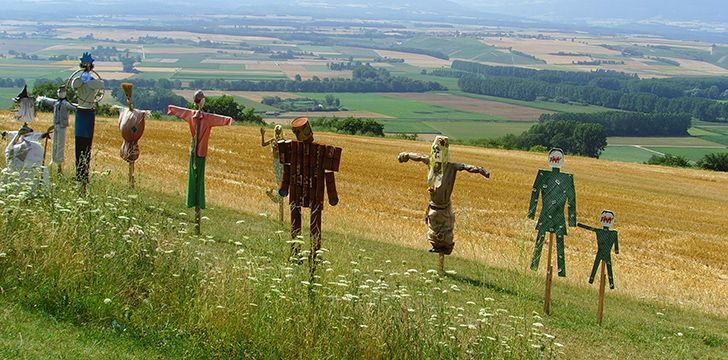person-like: (396, 129, 494, 264), (278, 113, 344, 279), (163, 88, 238, 227), (526, 145, 581, 281), (68, 51, 105, 188), (569, 202, 623, 292), (110, 82, 153, 183), (34, 82, 75, 174), (258, 119, 286, 184)
